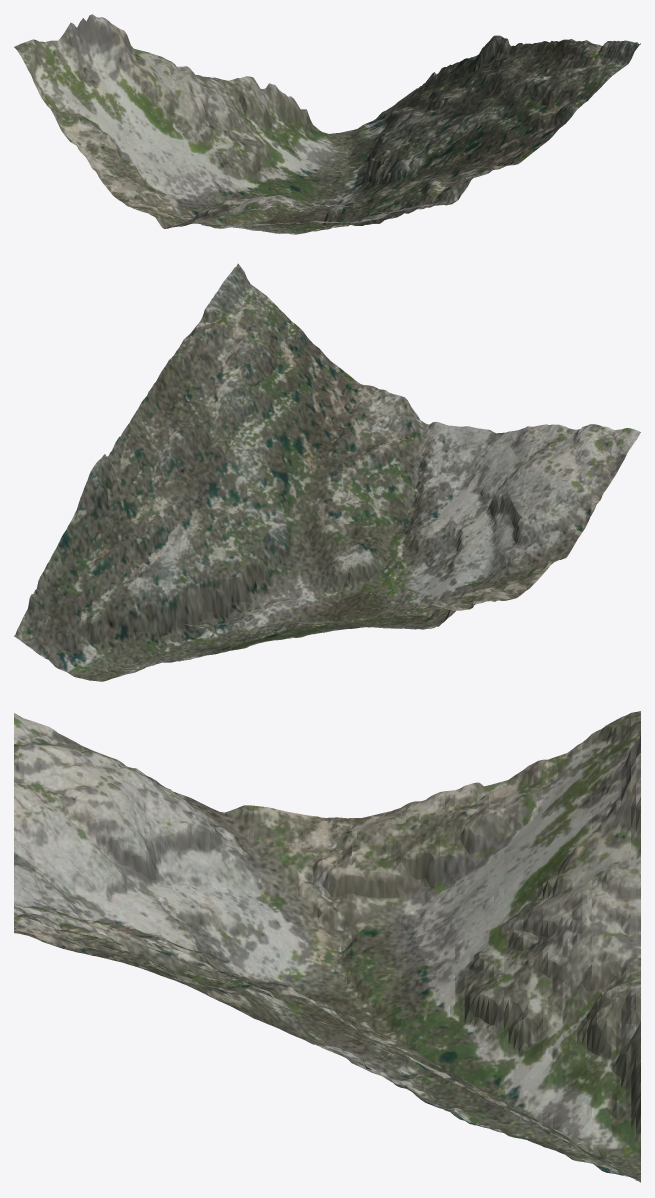
3 views of the same model, one above another, from view 1: azimuth 30°, elevation 25°; view 2: azimuth 150°, elevation 25°; view 3: azimuth 270°, elevation 25° (orthographic). The views are drawn at different scales.
Bounding box in the file's own units: 500 × 280 × 481.
1 material, 1 textured.
